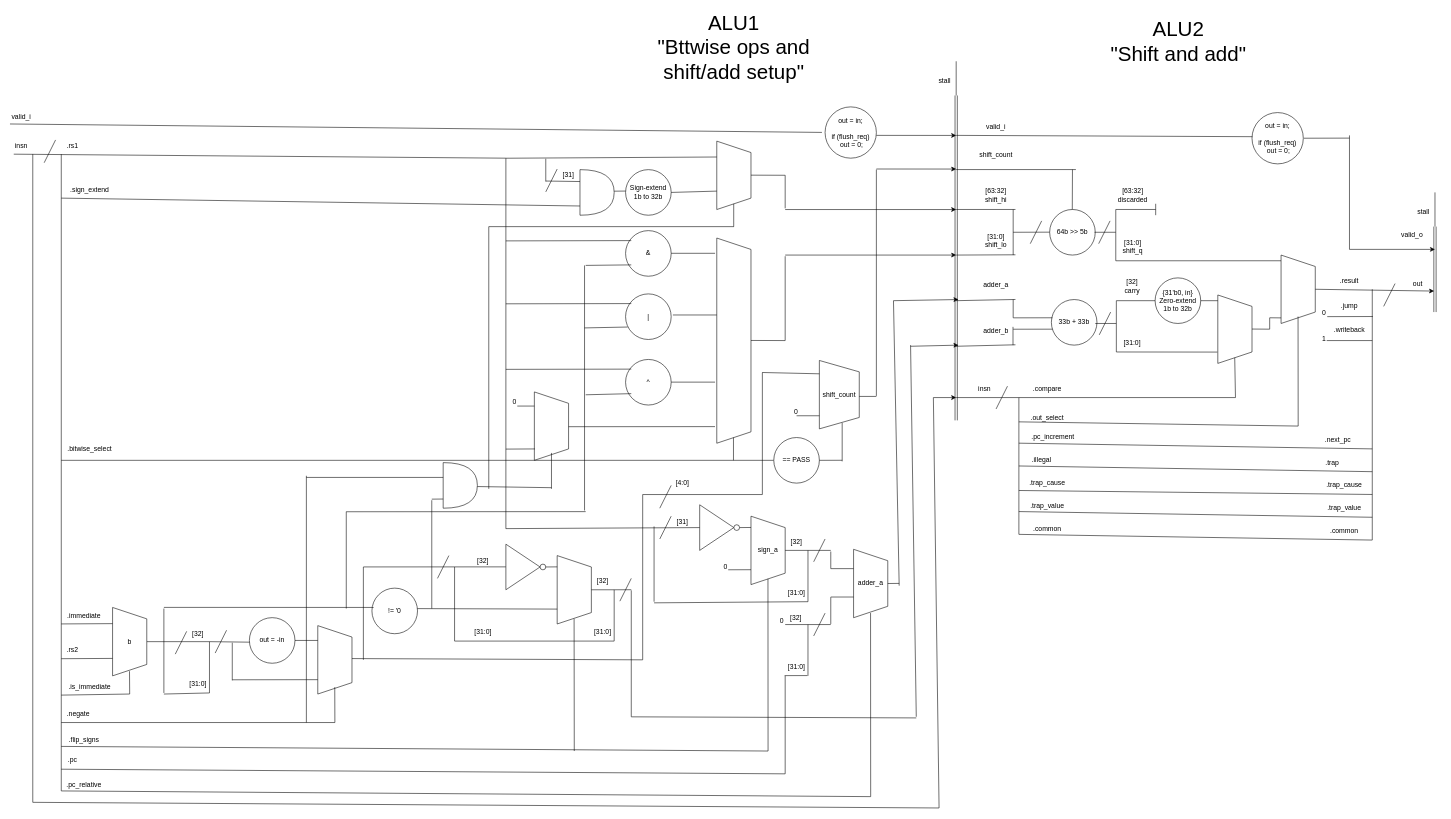
Image size: 1451x819. Some labels were removed from this diagram. Here are the shapes that lost their labels. From the top down, the centre of each, then its label:
At (x=733, y=175): "shift_hi".
At (x=1298, y=289): "alu_q".
At (x=733, y=340): "shift_lo".
At (x=1234, y=328): "adder_q".
At (x=460, y=485): "shift_left".
At (x=574, y=589): "sign_b".
At (x=334, y=659): "b_neg".
